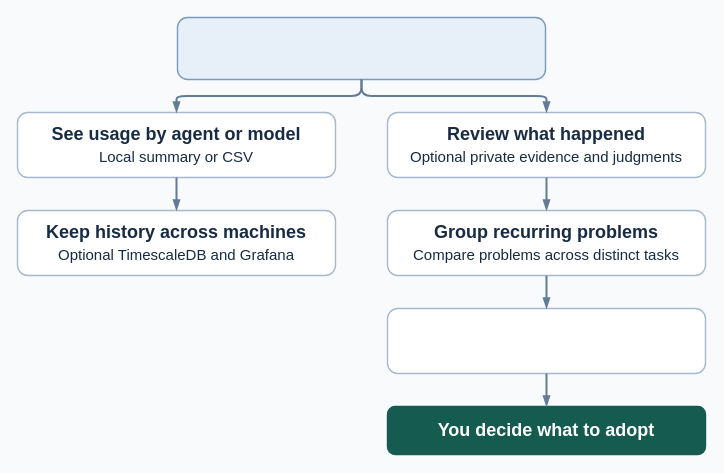
This 724x473 diagram has some shape labels left out. The shapes that lost their labels are listed below. From the top down, each one's centre as x and y in pixels, then its label:
the point at 361,48: Existing agent logs Claude Code · Codex · Cursor · Pi
the point at 546,340: Draft and test a candidate Work in an isolated copy
